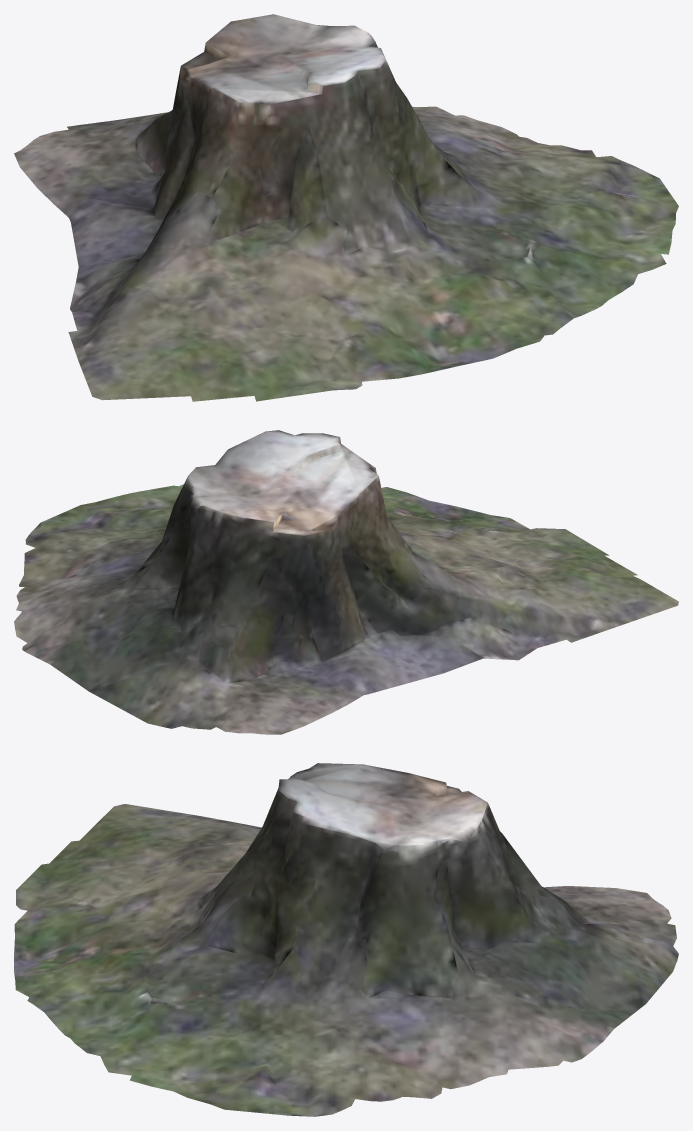
Rendered from jungle-stump.lod0.glb.
The picture shows the model from 3 angles, top to bottom: view 1: azimuth 30°, elevation 25°; view 2: azimuth 150°, elevation 25°; view 3: azimuth 270°, elevation 25°; orthographic projection. The views are drawn at different scales.
Parts seen in each view (by area): view 1: stump_final_upload_stump_0; view 2: stump_final_upload_stump_0; view 3: stump_final_upload_stump_0.
Boxes of the visible parts, x1=… form: stump_final_upload_stump_0: x1=14, y1=14, x2=678, y2=401; stump_final_upload_stump_0: x1=14, y1=430, x2=678, y2=734; stump_final_upload_stump_0: x1=14, y1=763, x2=678, y2=1116.
Bounding box in the file's own units: 1.6 × 0.4405 × 1.45.
1 material, 1 textured.
